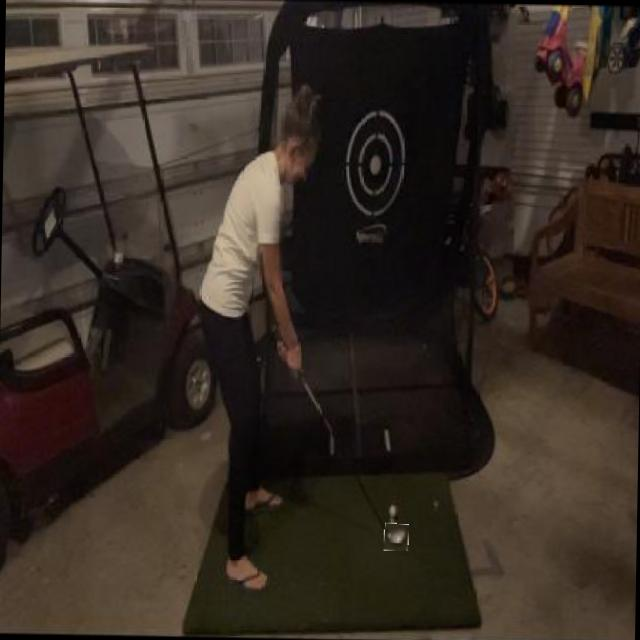club head: (384, 523, 408, 551)
